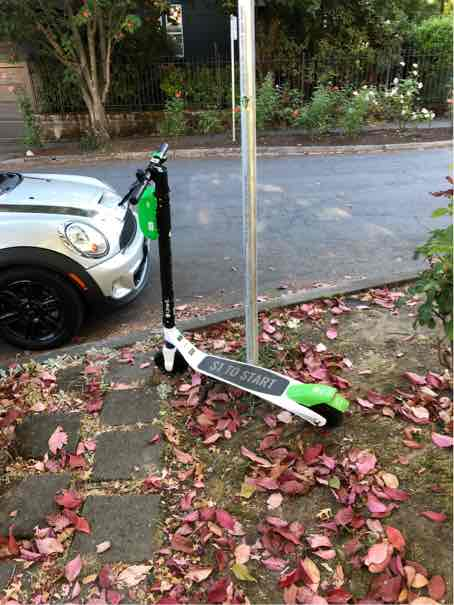scooter: (116, 123, 353, 433)
